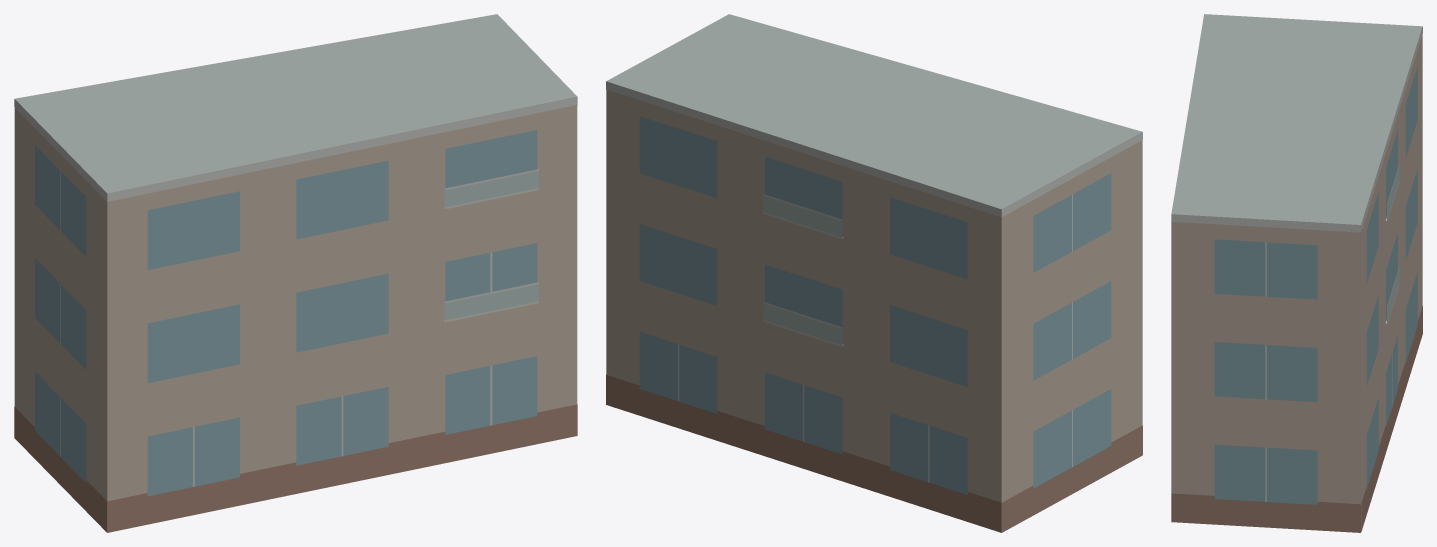
The model's file is survey-upis-32639464.glb.
The picture shows the model from 3 angles, left to right: view 1: azimuth 30°, elevation 25°; view 2: azimuth 150°, elevation 25°; view 3: azimuth 270°, elevation 25°; orthographic projection. The views are drawn at different scales.
Parts seen in each view (by area): view 1: survey-upis-32639464.tmp; view 2: survey-upis-32639464.tmp; view 3: survey-upis-32639464.tmp.
Part boxes in pixels (x1,y1,x2,y2): survey-upis-32639464.tmp: (14, 14, 577, 532); survey-upis-32639464.tmp: (606, 14, 1142, 532); survey-upis-32639464.tmp: (1171, 14, 1422, 532).
Bounding box in the file's own units: 14.56 × 9.9 × 7.34.
